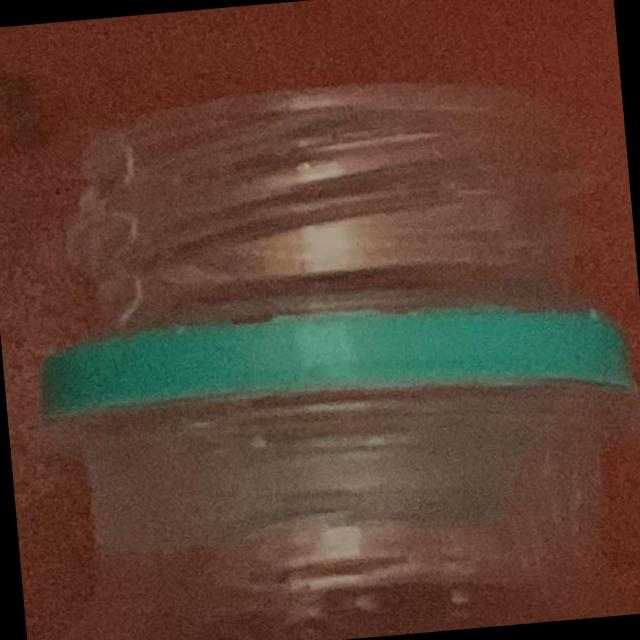open-cap: (24, 52, 616, 430)
